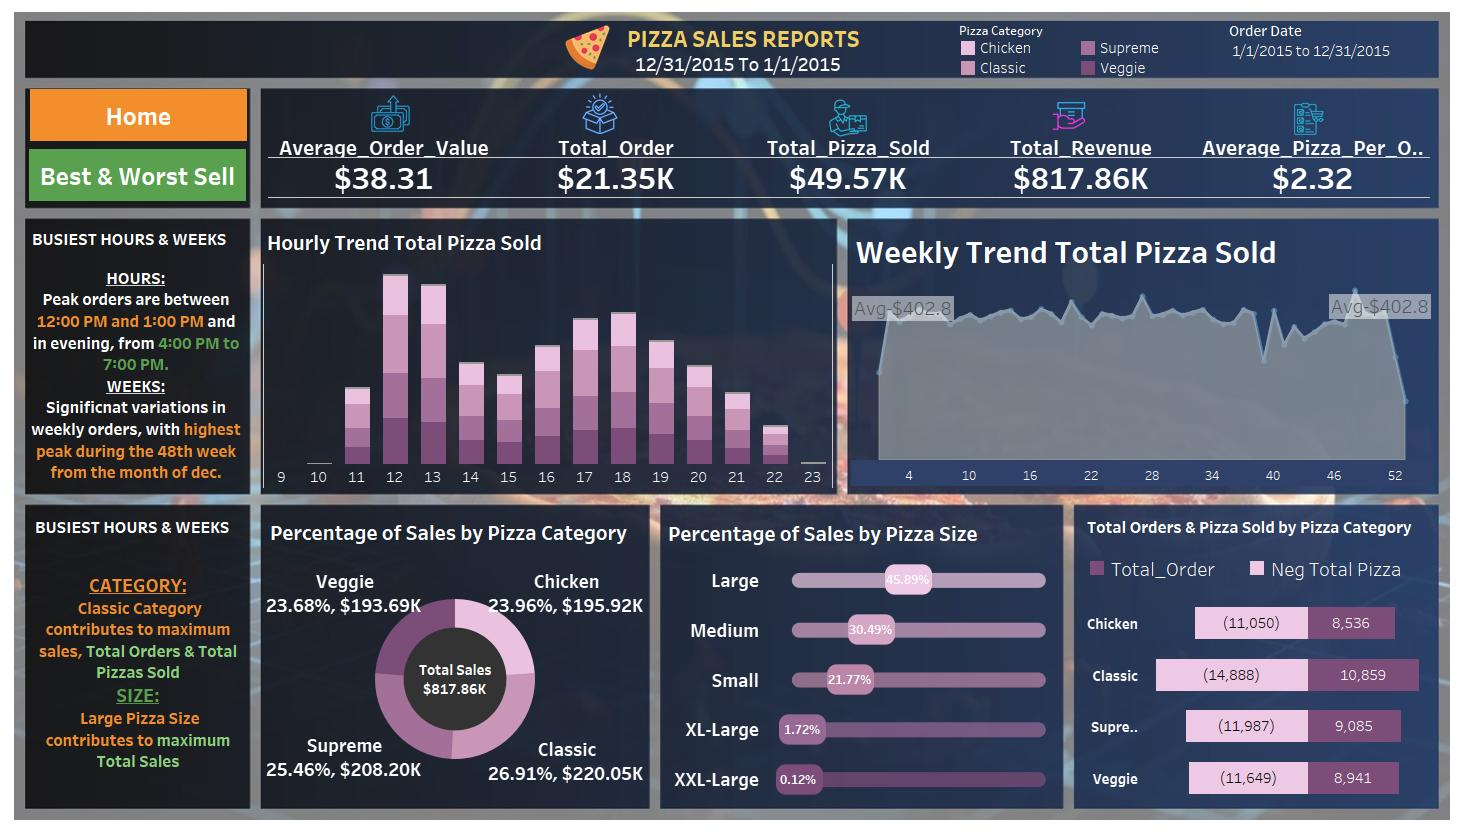

The dashboard page shown, as its layout file describes it:
{"tool":"tableau","page":{"name":"Home","canvas":[1464,832],"ordinal":1},"visuals":[{"type":"image","param":"C:/Users/Lost Ever/Downloads/tableau project files and resources/Tableau & SQL P","box":[8,8,1448,816]},{"type":"legend","title":"Hourly Trend Total Pizza Sold","param":"[federated.08mj7460sib98g1ell9rb112kt8u].[none:pizza_category:nk]","box":[958,20,249,58]},{"type":"filter","title":"Hourly Trend Total Pizza Sold","param":"[federated.08mj7460sib98g1ell9rb112kt8u].[none:order_date:qk]","box":[1229,20,207,60]},{"type":"text","box":[623,23,241,30]},{"type":"image","param":"C:/Users/Lost Ever/Downloads/tableau project files and resources/Tableau & SQL P","box":[564,24,79,46]},{"type":"worksheet","title":"Years","mark":"Automatic","box":[615,49,247,30]},{"type":"dashboard-object","box":[30,89,217,52]},{"type":"image","param":"C:/Users/Lost Ever/Downloads/tableau project files and resources/Tableau & SQL P","box":[368,91,46,44]},{"type":"image","param":"C:/Users/Lost Ever/Downloads/tableau project files and resources/Tableau & SQL P","box":[579,93,51,41]},{"type":"image","param":"C:/Users/Lost Ever/Downloads/tableau project files and resources/Tableau & SQL P","box":[1050,97,47,37]},{"type":"image","param":"C:/Users/Lost Ever/Downloads/tableau project files and resources/Tableau & SQL P","box":[828,98,61,39]},{"type":"image","param":"C:/Users/Lost Ever/Downloads/tableau project files and resources/Tableau & SQL P","box":[1292,102,63,33]},{"type":"worksheet","title":"KPI","mark":"Automatic","box":[268,137,1162,61]},{"type":"dashboard-object","box":[29,149,217,52]},{"type":"worksheet","title":"Hourly Trend Total Pizza Sold","mark":"Bar","rows":["Calculation_68116976624730113","Calculation_68116976624730113"],"cols":["order_time"],"box":[263,222,570,267]},{"type":"text","box":[28,224,215,30]},{"type":"worksheet","title":"Weekly Trend Total Pizza Sold","mark":"Line","rows":["Calculation_68116976624898050","Calculation_68116976624898050"],"cols":["order_date"],"box":[851,224,582,262]},{"type":"text","box":[27,264,218,225]},{"type":"text","box":[31,512,215,30]},{"type":"worksheet","title":"Percentage of Sales by Pizza Category","mark":"Pie","rows":["Calculation_143270795568267268","Calculation_143270795568267268"],"box":[266,512,378,292]},{"type":"text","box":[1083,512,336,30]},{"type":"worksheet","title":"Percentage of Sales by Pizza Size","mark":"Line","rows":["pizza_size"],"box":[664,513,394,291]},{"type":"text","box":[29,544,218,260]},{"type":"legend","title":"Total Orders & Pizza by Pizza Category","param":"[federated.08mj7460sib98g1ell9rb112kt8u].[:Measure Names]","box":[1085,556,337,52]},{"type":"worksheet","title":"Total Orders & Pizza by Pizza Category","mark":"Automatic","rows":["pizza_category"],"box":[1083,597,349,207]}]}

Visuals, with their boxes in screenshot pixels (x1, y1, x2, y2), scaled from the page's 1464x832 canvas onto the 1464x832 screenshot:
image: (8,8,1456,824)
"Hourly Trend Total Pizza Sold" legend: (958,20,1207,78)
"Hourly Trend Total Pizza Sold" filter: (1229,20,1436,80)
text: (623,23,864,53)
image: (564,24,643,70)
"Years" worksheet: (615,49,862,79)
dashboard-object: (30,89,247,141)
image: (368,91,414,135)
image: (579,93,630,134)
image: (1050,97,1097,134)
image: (828,98,889,137)
image: (1292,102,1355,135)
"KPI" worksheet: (268,137,1430,198)
dashboard-object: (29,149,246,201)
"Hourly Trend Total Pizza Sold" worksheet (Bar marks): (263,222,833,489)
text: (28,224,243,254)
"Weekly Trend Total Pizza Sold" worksheet (Line marks): (851,224,1433,486)
text: (27,264,245,489)
text: (31,512,246,542)
"Percentage of Sales by Pizza Category" worksheet (Pie marks): (266,512,644,804)
text: (1083,512,1419,542)
"Percentage of Sales by Pizza Size" worksheet (Line marks): (664,513,1058,804)
text: (29,544,247,804)
"Total Orders & Pizza by Pizza Category" legend: (1085,556,1422,608)
"Total Orders & Pizza by Pizza Category" worksheet: (1083,597,1432,804)
